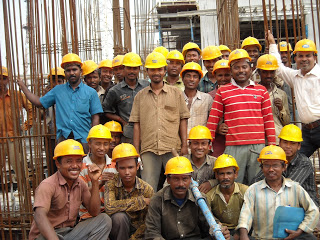NoJacket: (41, 140, 88, 240), (137, 53, 183, 150), (256, 146, 302, 239), (153, 157, 201, 240), (222, 49, 264, 143), (110, 145, 151, 220), (54, 53, 89, 133), (291, 40, 320, 119), (211, 154, 241, 223)
